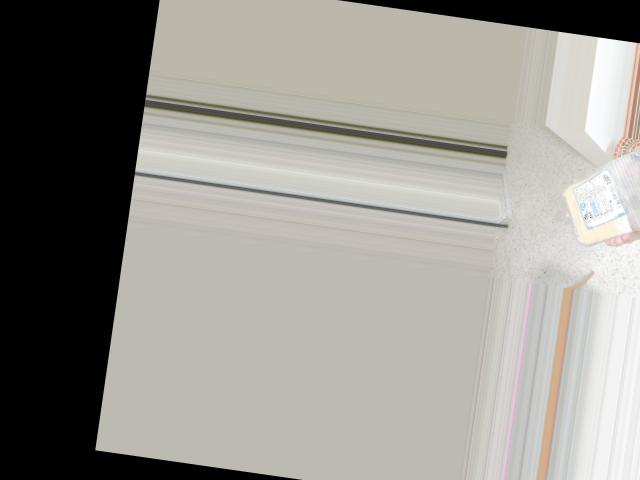cheese: (550, 140, 640, 245)
